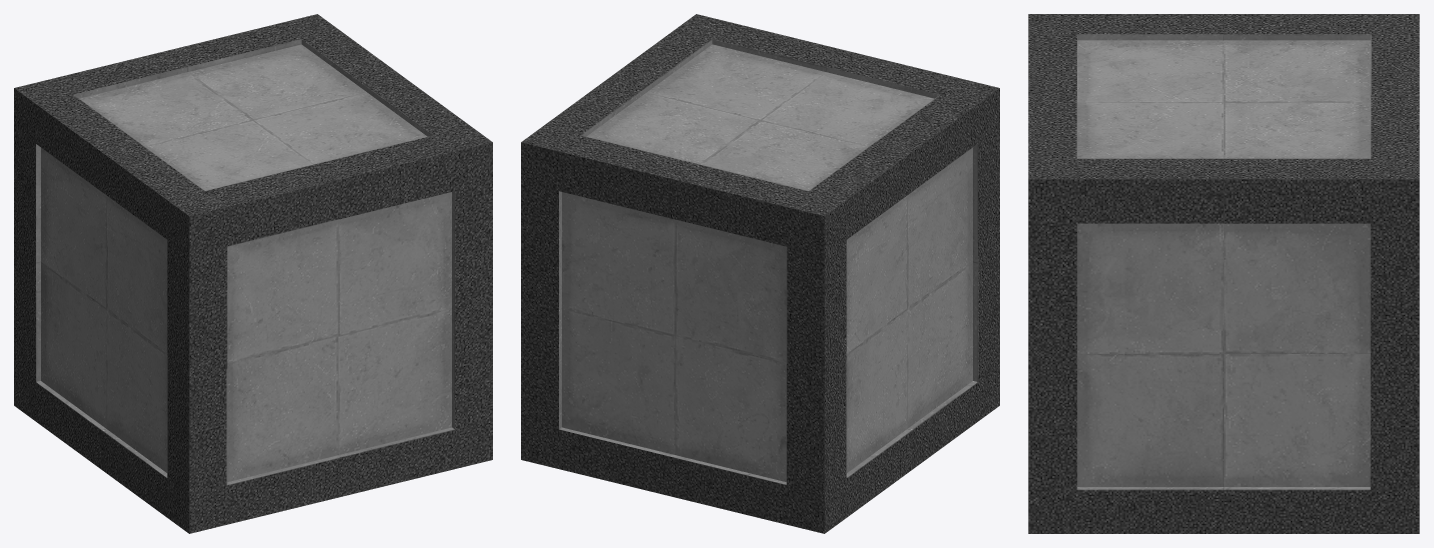
File: sci-fi_cube.glb
3 renders of one model, left to right at view 1: azimuth 30°, elevation 25°; view 2: azimuth 150°, elevation 25°; view 3: azimuth 270°, elevation 25°, orthographic. The views are drawn at different scales.
Visible parts, largest first — view 1: Metal Shell; view 2: Metal Shell; view 3: Metal Shell.
Boxes of the visible parts, x1,y1,x2,y2 form: Metal Shell: (14, 14, 492, 533); Metal Shell: (521, 14, 999, 533); Metal Shell: (1028, 14, 1419, 533).
Bounding box in the file's own units: 1.04 × 1.04 × 1.04.
2 materials, 1 textured.
